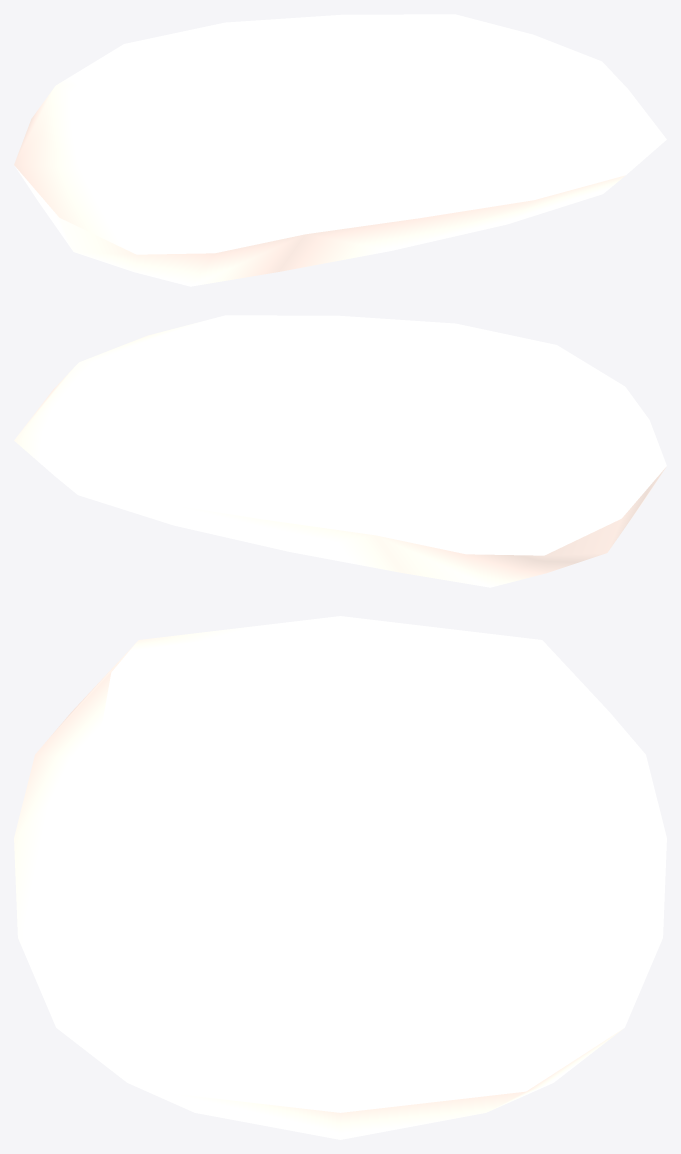
The model's file is Mouse.fbx.
3 renders of one model, top to bottom at view 1: azimuth 30°, elevation 25°; view 2: azimuth 150°, elevation 25°; view 3: azimuth 270°, elevation 25°, orthographic. The views are drawn at different scales.
Parts seen in each view (by area): view 1: Cube_11; view 2: Cube_11; view 3: Cube_11.
Part boxes in pixels (<box>): Cube_11: <box>14,14,666,286</box>; Cube_11: <box>14,315,666,587</box>; Cube_11: <box>14,616,666,1139</box>.
Size of the model in its own units: 44.7 by 11.33 by 30.29.
